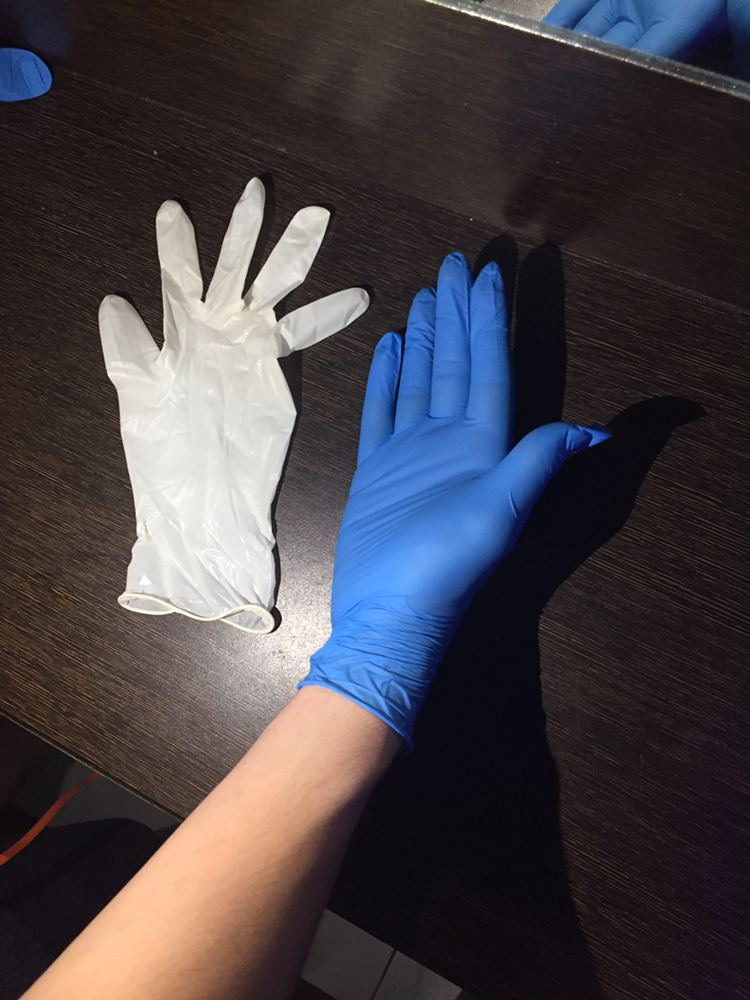glove: (80, 162, 389, 596), (320, 221, 612, 676)
